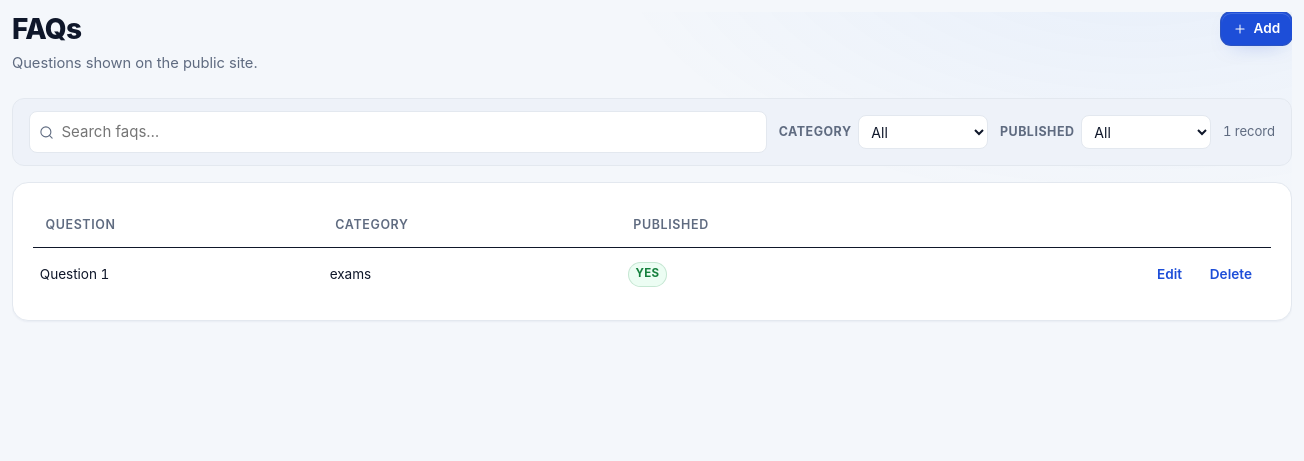
Test: CrudSection (premium list) › distinguishes "nothing matches" from "nothing here yet" and can clear back
Type "zzzz" into the search field labelled "Search" at coordinates (398, 132), box [29,111,767,153]
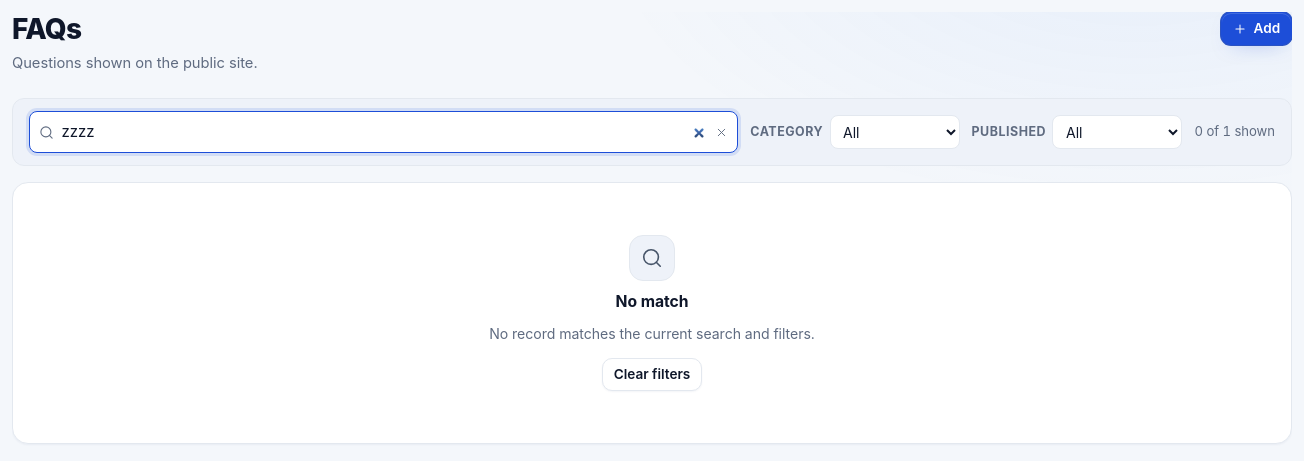
Expected: the text "No match" is shown, [616,290,688,314]
Click the button "Clear filters" at coordinates (652, 375), box [602,358,702,391]
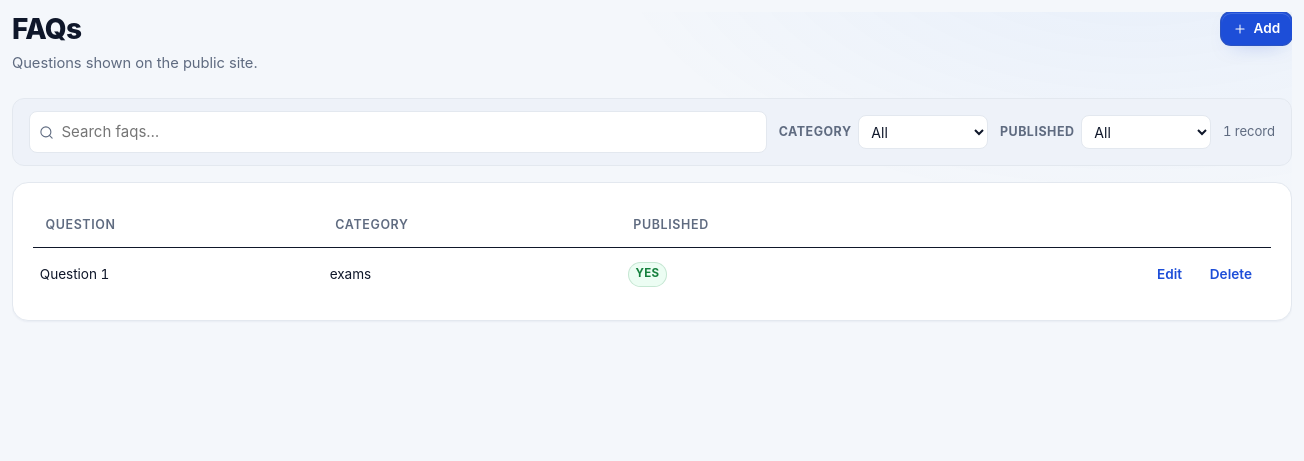
Expected: the table is shown, [33,203,1271,300]
